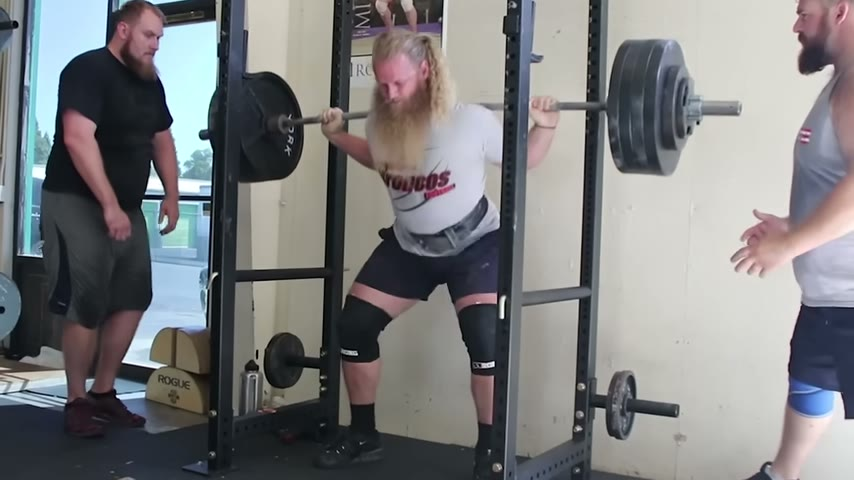barbell_plate_side: (665, 33, 746, 175), (215, 69, 298, 190), (247, 323, 325, 403), (605, 369, 680, 446)
